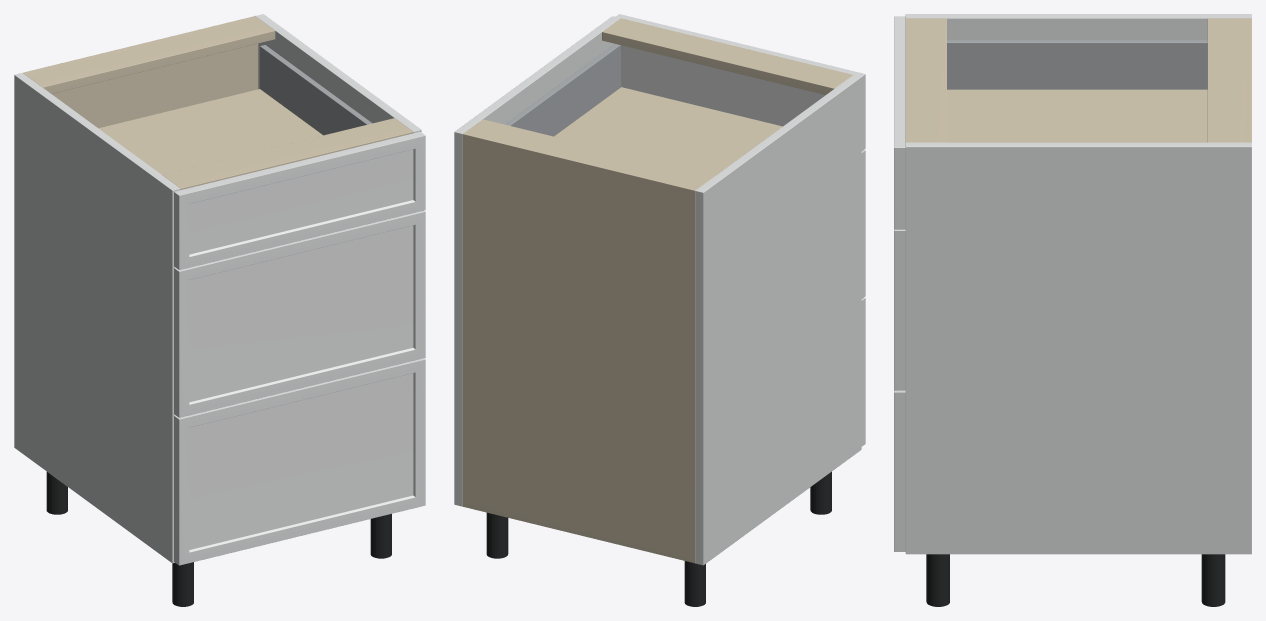
Rendered from oppein-ply-ssw-3db21.glb.
The picture shows the model from 3 angles, left to right: view 1: azimuth 30°, elevation 25°; view 2: azimuth 150°, elevation 25°; view 3: azimuth 270°, elevation 25°; orthographic projection. The views are drawn at different scales.
Visible parts, largest first — view 1: Cabinet side, Drawer front.001, Drawer front, Drawer front.002, Drawer floor.002, Cabinet back, Top support rail, Top support rail.001, Drawer side.005, Cabinet side.001, Adjustable foot.001, Adjustable foot.003 (+1 smaller); view 2: Cabinet back, Cabinet side, Drawer floor.002, Drawer front.002, Cabinet side.001, Top support rail.001, Drawer side.005, Top support rail, Cabinet bottom, Adjustable foot.002, Adjustable foot, Adjustable foot.001 (+2 smaller); view 3: Cabinet side.001, Drawer floor.002, Drawer side.004, Cabinet side, Top support rail.001, Top support rail, Drawer front.002, Drawer front, Drawer front.001, Adjustable foot.002, Adjustable foot.003, Cabinet back.
Boxes of the visible parts, box(x1,y1,x2,y2) form: Cabinet side: box(14, 73, 180, 563); Drawer front.001: box(174, 210, 425, 417); Drawer front: box(174, 358, 425, 565); Drawer front.002: box(174, 131, 425, 269); Drawer floor.002: box(99, 89, 322, 174); Cabinet back: box(23, 16, 258, 128); Top support rail: box(24, 18, 275, 93); Top support rail.001: box(162, 118, 413, 189); Drawer side.005: box(260, 45, 372, 135); Cabinet side.001: box(255, 14, 421, 133); Adjustable foot.001: box(172, 562, 193, 606); Adjustable foot.003: box(370, 514, 391, 558); Cabinet back: box(462, 132, 697, 562); Cabinet side: box(695, 75, 861, 565); Drawer floor.002: box(554, 87, 782, 175); Drawer front.002: box(615, 14, 865, 150); Cabinet side.001: box(454, 16, 620, 506); Top support rail.001: box(602, 18, 852, 94); Drawer side.005: box(505, 44, 621, 136); Top support rail: box(466, 119, 714, 188); Cabinet bottom: box(462, 498, 694, 563); Adjustable foot.002: box(486, 512, 508, 558); Adjustable foot: box(684, 561, 705, 606); Adjustable foot.001: box(810, 471, 831, 514); Cabinet side.001: box(905, 142, 1251, 554); Drawer floor.002: box(947, 89, 1207, 142); Drawer side.004: box(947, 40, 1207, 89); Cabinet side: box(905, 14, 1251, 39); Top support rail.001: box(905, 18, 946, 142); Top support rail: box(1207, 18, 1245, 142); Drawer front.002: box(894, 16, 905, 229); Drawer front: box(894, 390, 905, 551); Drawer front.001: box(894, 229, 905, 390); Adjustable foot.002: box(1201, 554, 1225, 606); Adjustable foot.003: box(926, 554, 949, 606); Cabinet back: box(1245, 18, 1251, 142).
Bounding box in the file's own units: 0.5334 × 0.8763 × 0.6064.
